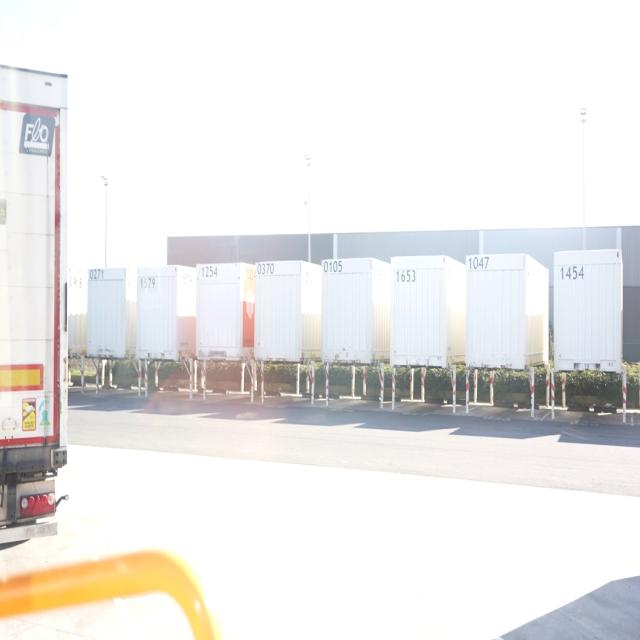Code: (557, 259, 587, 286), (467, 253, 495, 279), (320, 256, 347, 280), (395, 265, 420, 288), (256, 258, 278, 280), (136, 272, 158, 293), (86, 265, 107, 284), (198, 264, 222, 280)
